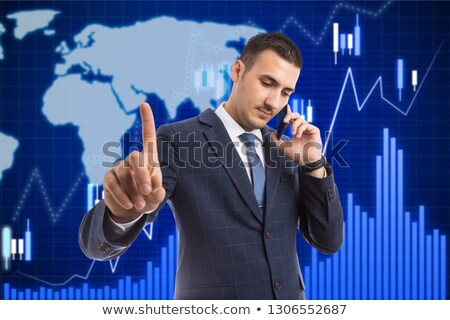phone: (274, 93, 302, 142)
talk: (249, 71, 331, 164)
